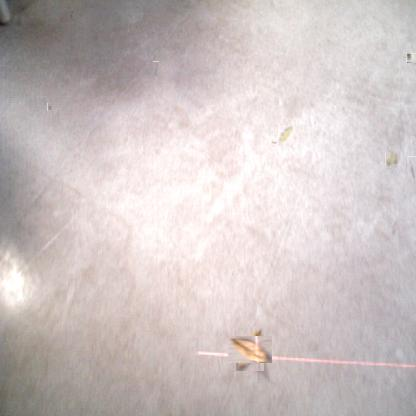dirty: (232, 331, 268, 367), (278, 126, 293, 146), (385, 152, 398, 166), (406, 52, 416, 62)
mark: (406, 156, 416, 179), (153, 61, 159, 76), (392, 225, 398, 237), (270, 140, 277, 148), (68, 13, 74, 21), (47, 103, 52, 111)
